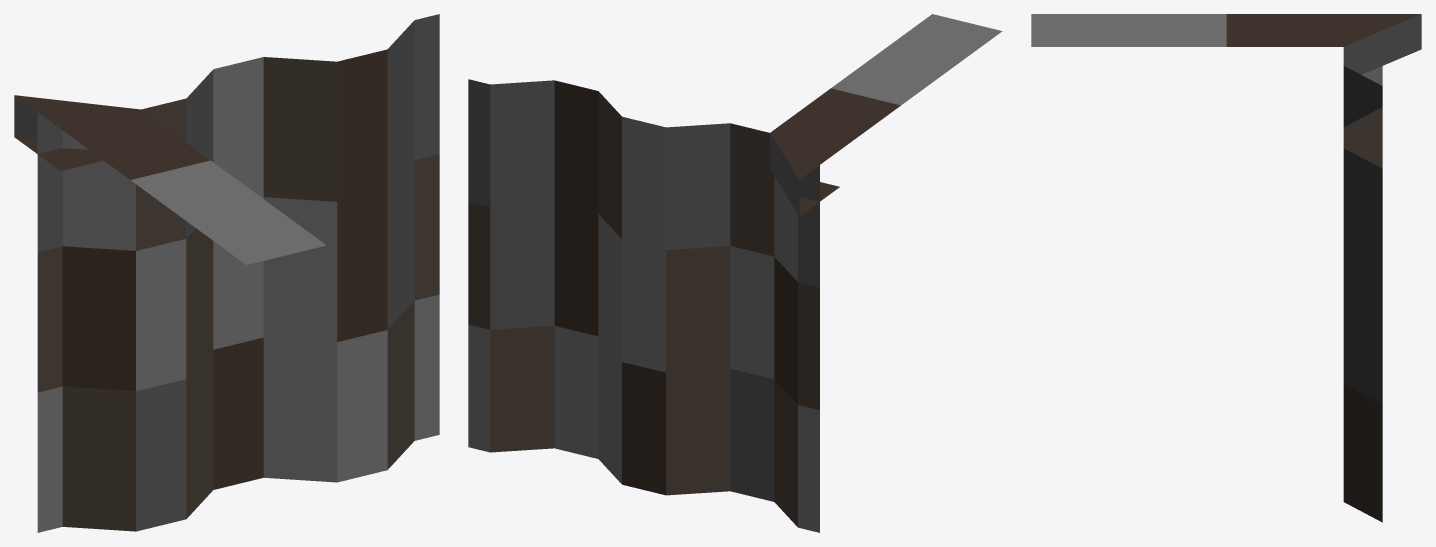
The model's file is Straight_Edge_Wall_Roof_Right.obj.
The picture shows the model from 3 angles, left to right: view 1: azimuth 30°, elevation 25°; view 2: azimuth 150°, elevation 25°; view 3: azimuth 270°, elevation 25°; orthographic projection. The views are drawn at different scales.
Parts seen in each view (by area): view 1: Straight_Edge_Wall_Roof_Right; view 2: Straight_Edge_Wall_Roof_Right; view 3: Straight_Edge_Wall_Roof_Right.
Boxes of the visible parts, x1,y1,x2,y2 form: Straight_Edge_Wall_Roof_Right: (14, 14, 439, 532); Straight_Edge_Wall_Roof_Right: (468, 14, 1002, 532); Straight_Edge_Wall_Roof_Right: (1031, 14, 1421, 522).
Bounding box in the file's own units: 1 × 1 × 1.
